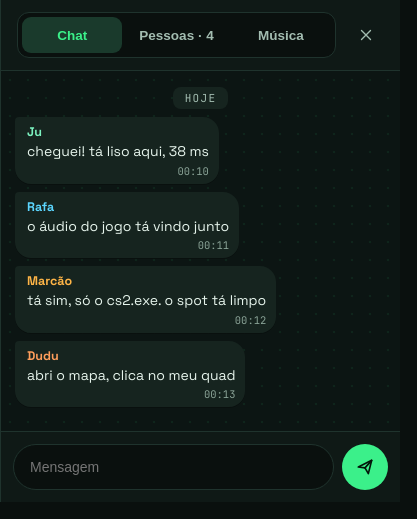
SalaPainel › trocar aba: clicar em Pessoas mostra os participantes e some o chat
Click the tab "Pessoas · 4". click: (176, 35)
box: [126,17,227,53]
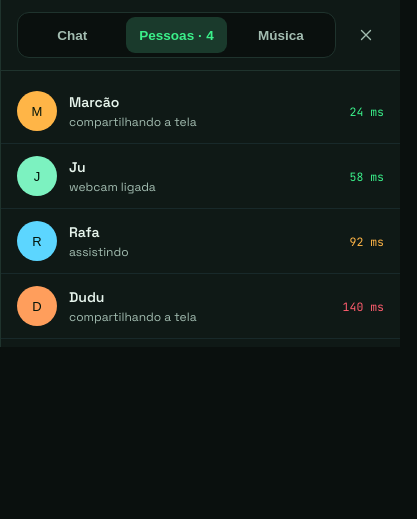
expect the text "Marcão" is shown: met, box [69,92,119,110]
expect the element "Mensagens" is gone: met
expect the text "compartilhando a tela" is shown 2 times: met, box [69,114,196,130]; [69,308,196,324]
